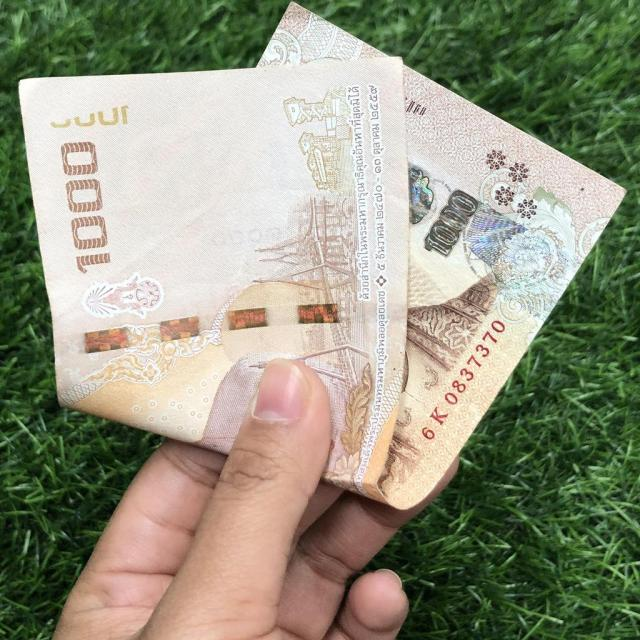THAI1000: (19, 4, 624, 509)
